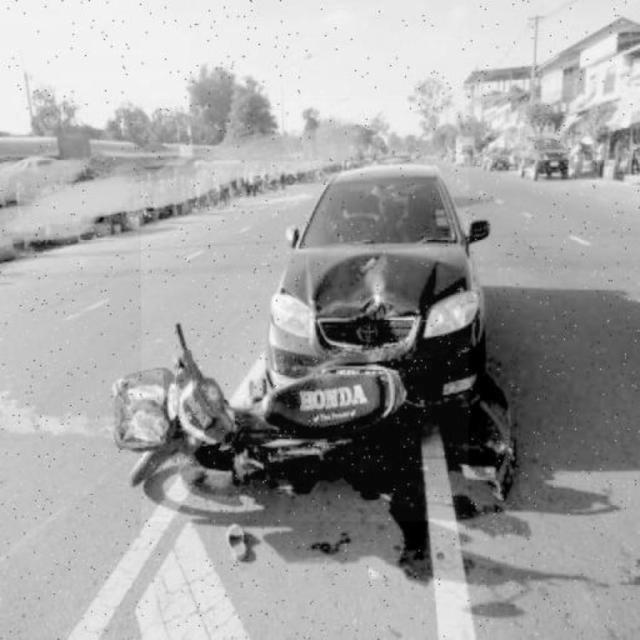accident: (142, 162, 469, 522)
vehicle: (520, 136, 572, 178)
